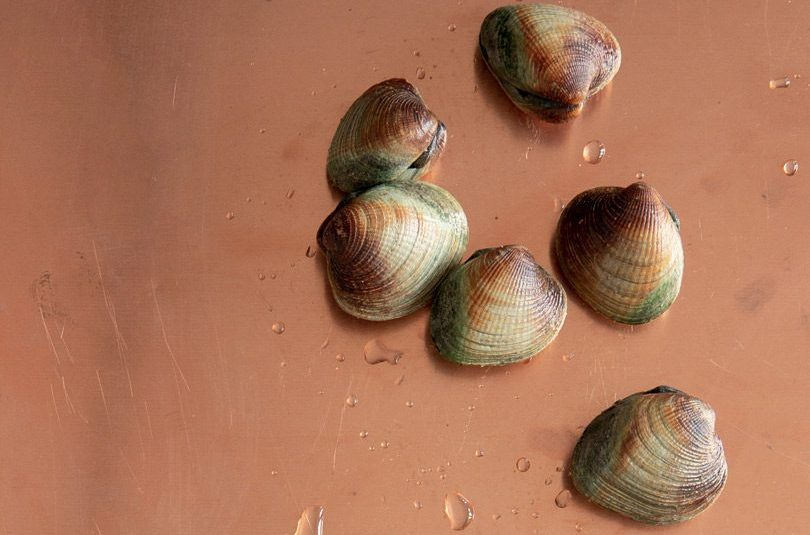cockle: (316, 176, 471, 330), (561, 381, 731, 520), (550, 182, 683, 328), (477, 4, 624, 128), (427, 241, 567, 371), (322, 76, 451, 206)
